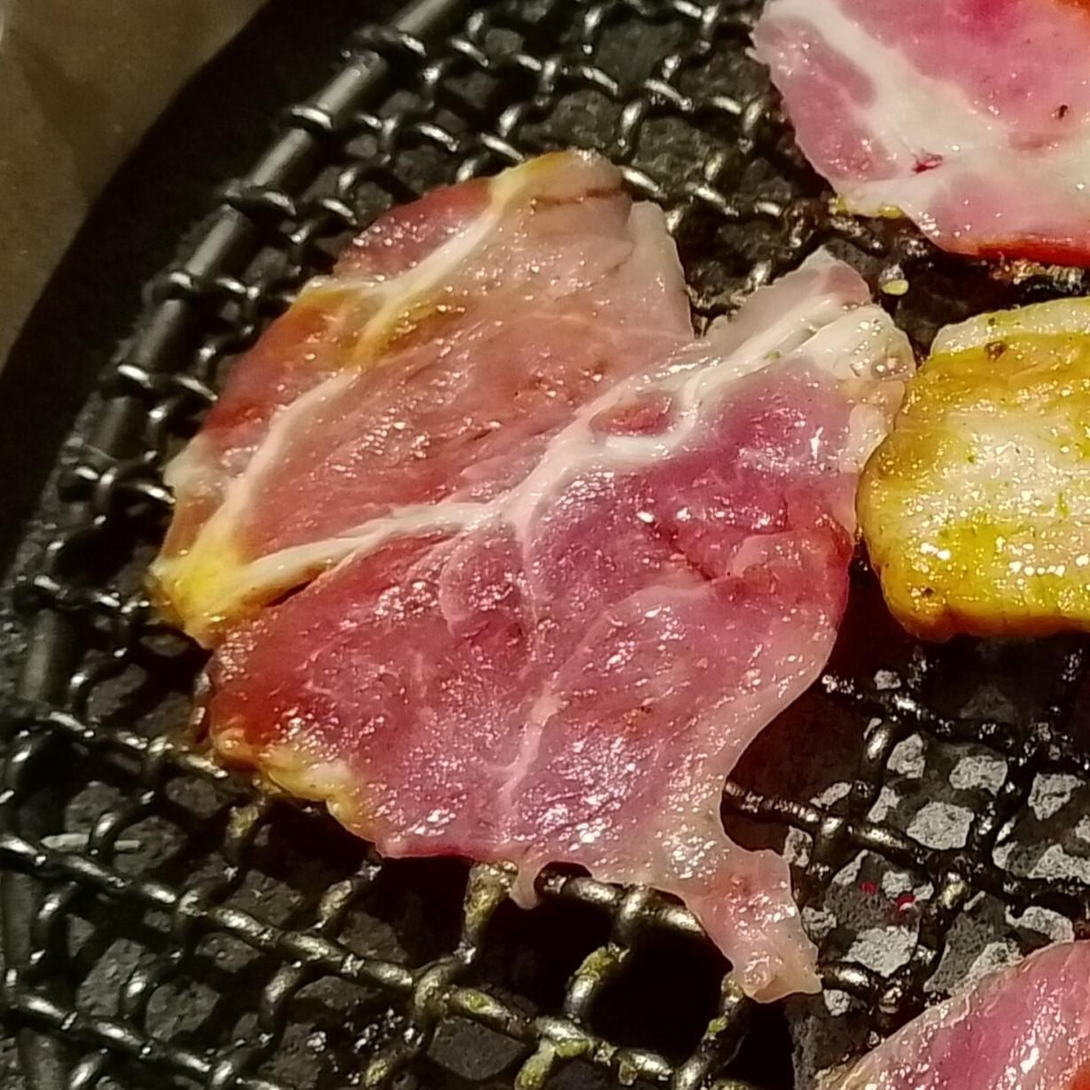Undercooked: (151, 152, 915, 1001), (751, 0, 1089, 267), (821, 940, 1089, 1089)
